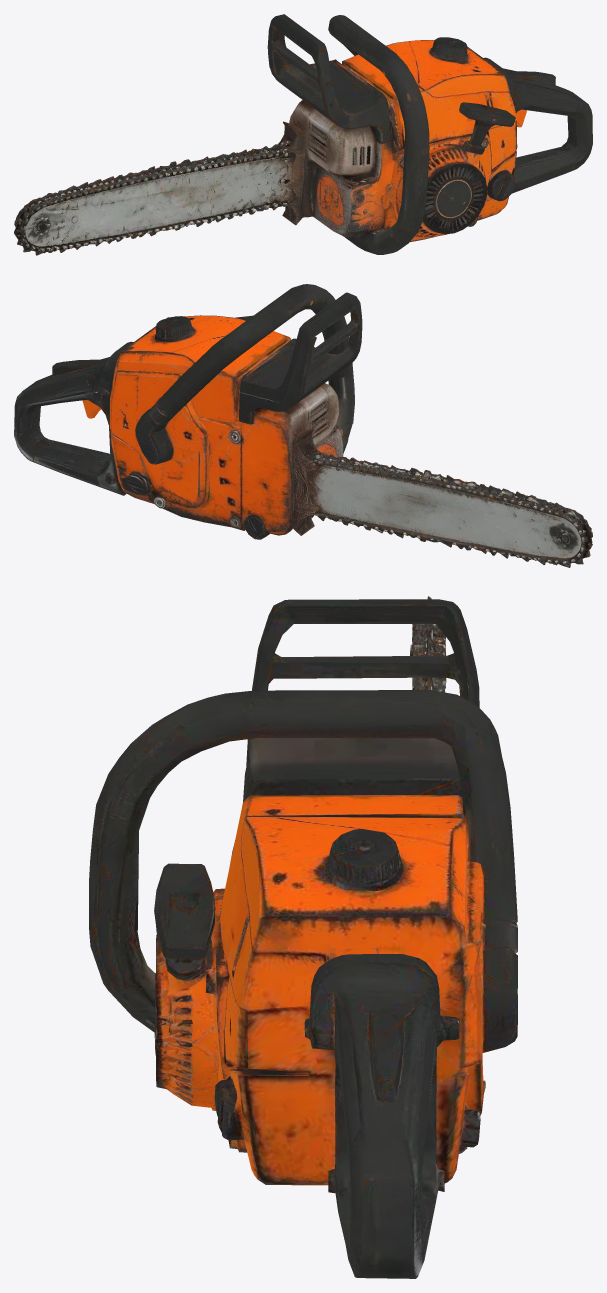
File: reaper-saw.glb
3 views of the same model, one above another, from view 1: azimuth 30°, elevation 25°; view 2: azimuth 150°, elevation 25°; view 3: azimuth 270°, elevation 25° (orthographic). The views are drawn at different scales.
Visible parts, largest first — view 1: Mesh_0; view 2: Mesh_0; view 3: Mesh_0.
Part boxes in pixels (x1,y1,x2,y2): Mesh_0: (14, 14, 592, 255); Mesh_0: (14, 284, 592, 567); Mesh_0: (89, 596, 517, 1278).
Size of the model in its own units: 1.9 by 0.6968 by 0.6279.
1 material, 1 textured.
